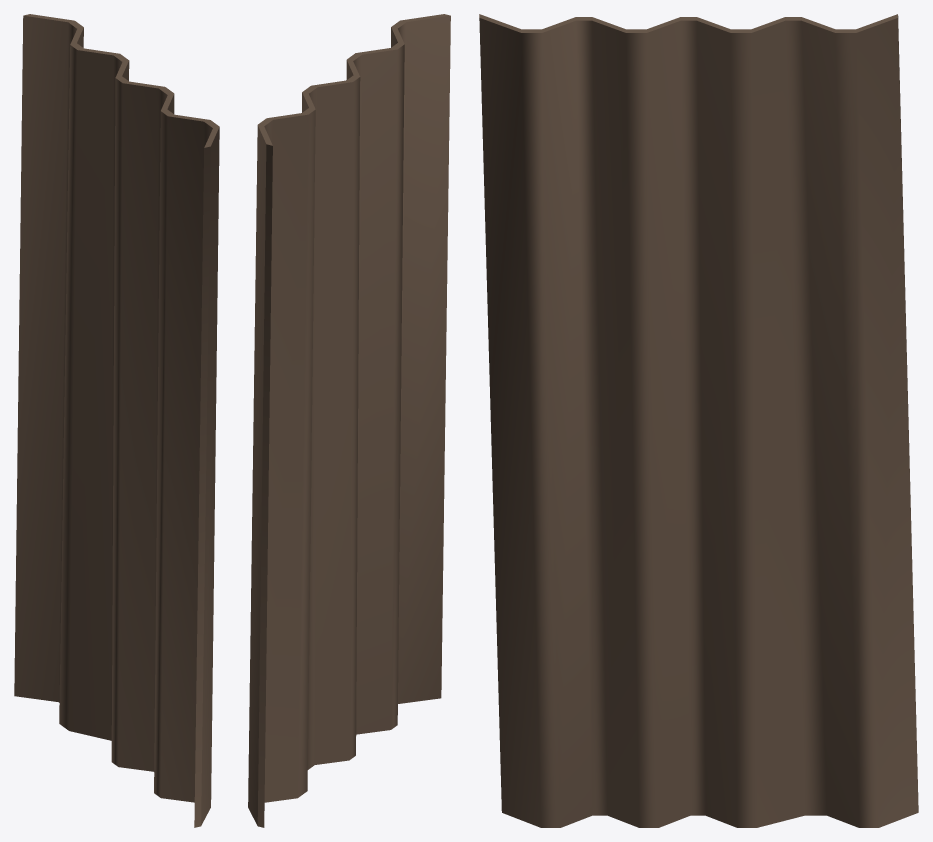
File: Childroom2_Curtain.fbx
3 renders of one model, left to right at view 1: azimuth 30°, elevation 25°; view 2: azimuth 150°, elevation 25°; view 3: azimuth 270°, elevation 25°, orthographic. The views are drawn at different scales.
Parts seen in each view (by area): view 1: Childroom2_Curtain; view 2: Childroom2_Curtain; view 3: Childroom2_Curtain.
Part boxes in pixels (bbox=[...]): Childroom2_Curtain: bbox=[14, 14, 219, 827]; Childroom2_Curtain: bbox=[248, 14, 450, 827]; Childroom2_Curtain: bbox=[479, 14, 918, 827].
Bounding box in the file's own units: 16.36 × 319 × 160.
